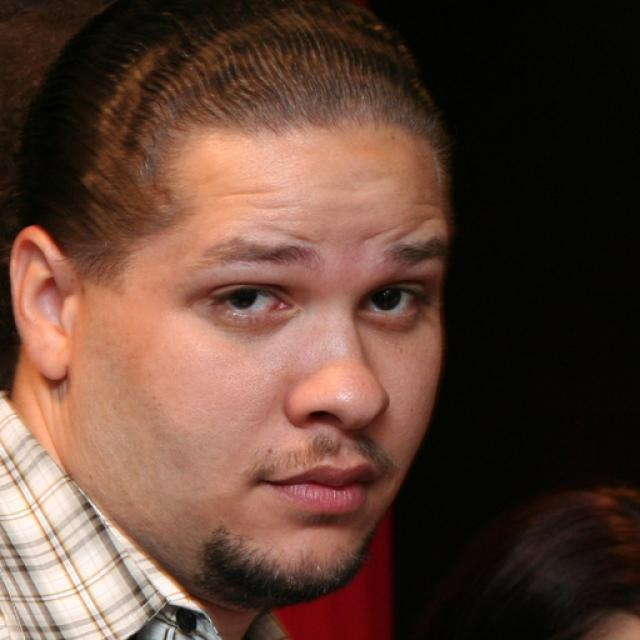0_rostro_limpio: (10, 0, 449, 601)
